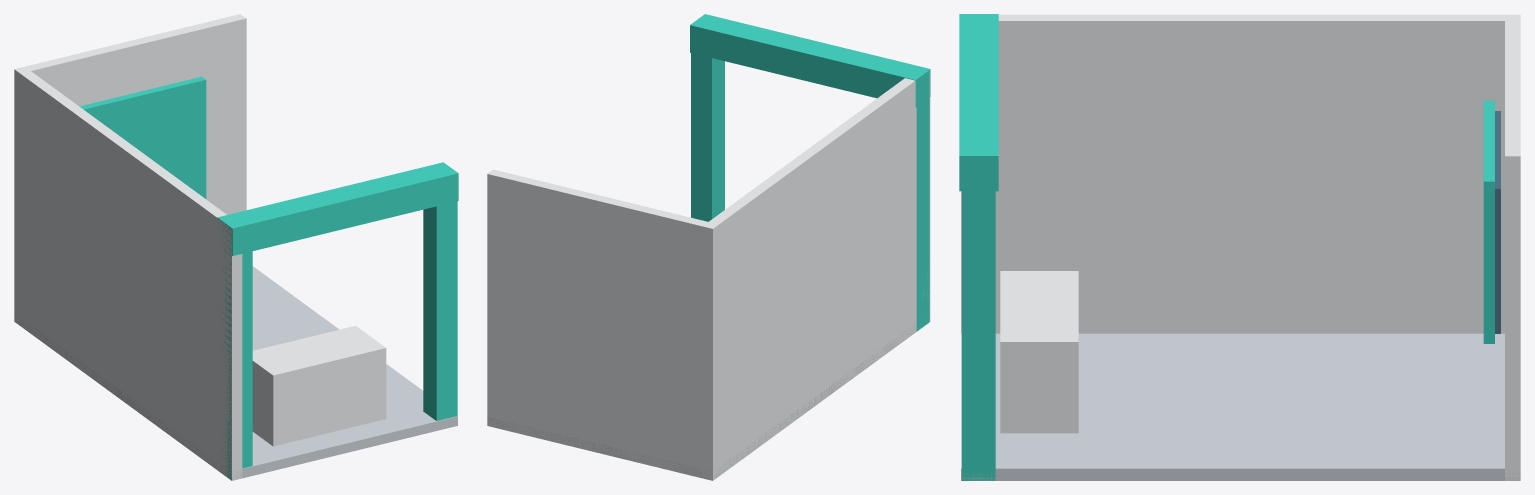
3 views of the same model, side by side, from view 1: azimuth 30°, elevation 25°; view 2: azimuth 150°, elevation 25°; view 3: azimuth 270°, elevation 25° (orthographic). The views are drawn at different scales.
Visible parts, largest first — view 1: Exhibition Booth Concept; view 2: Exhibition Booth Concept; view 3: Exhibition Booth Concept.
Boxes of the visible parts, <box> form: Exhibition Booth Concept: <box>14,14,458,480</box>; Exhibition Booth Concept: <box>487,14,930,480</box>; Exhibition Booth Concept: <box>959,14,1520,480</box>.
Bounding box in the file's own units: 3 × 3.2 × 5.02.
